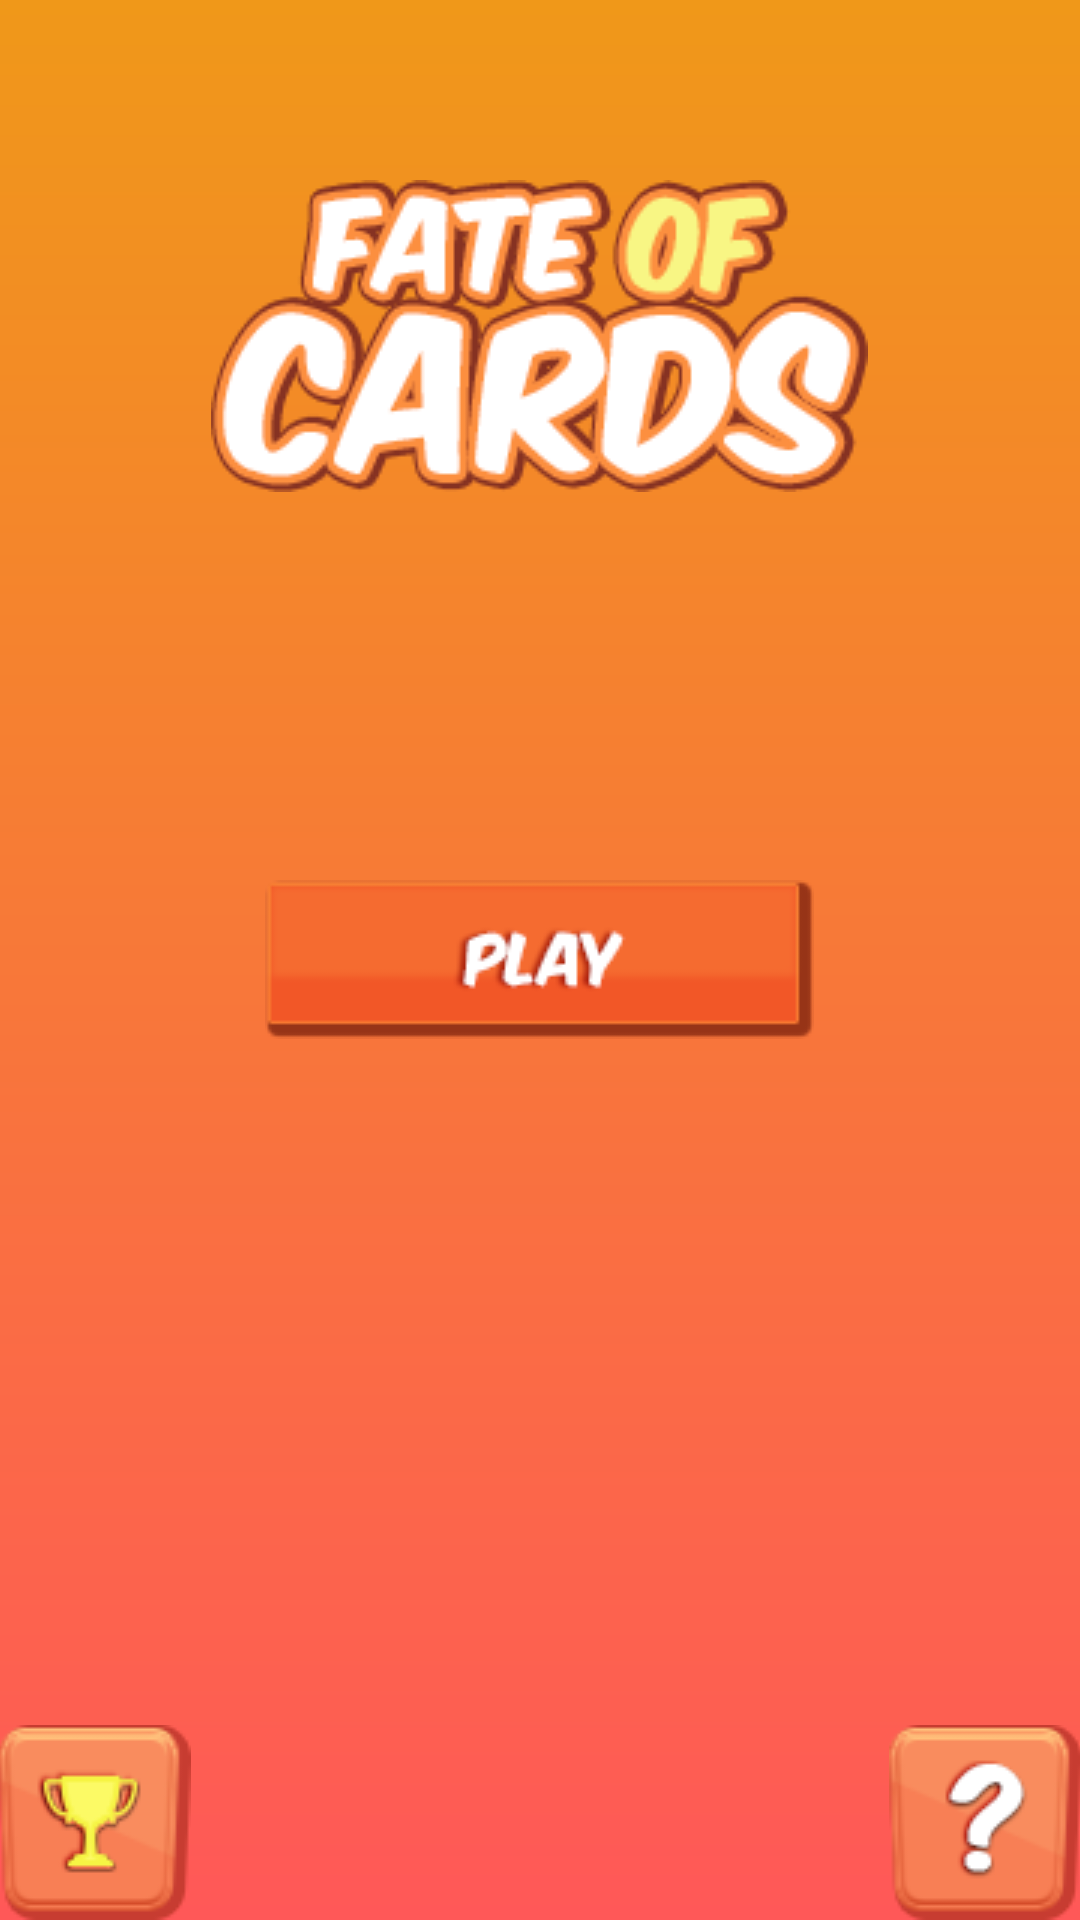

Screen size 1080*1920. Icon name, then its center in pixels as [x,y]:
help: [984,1822]
trophy: [95,1822]
